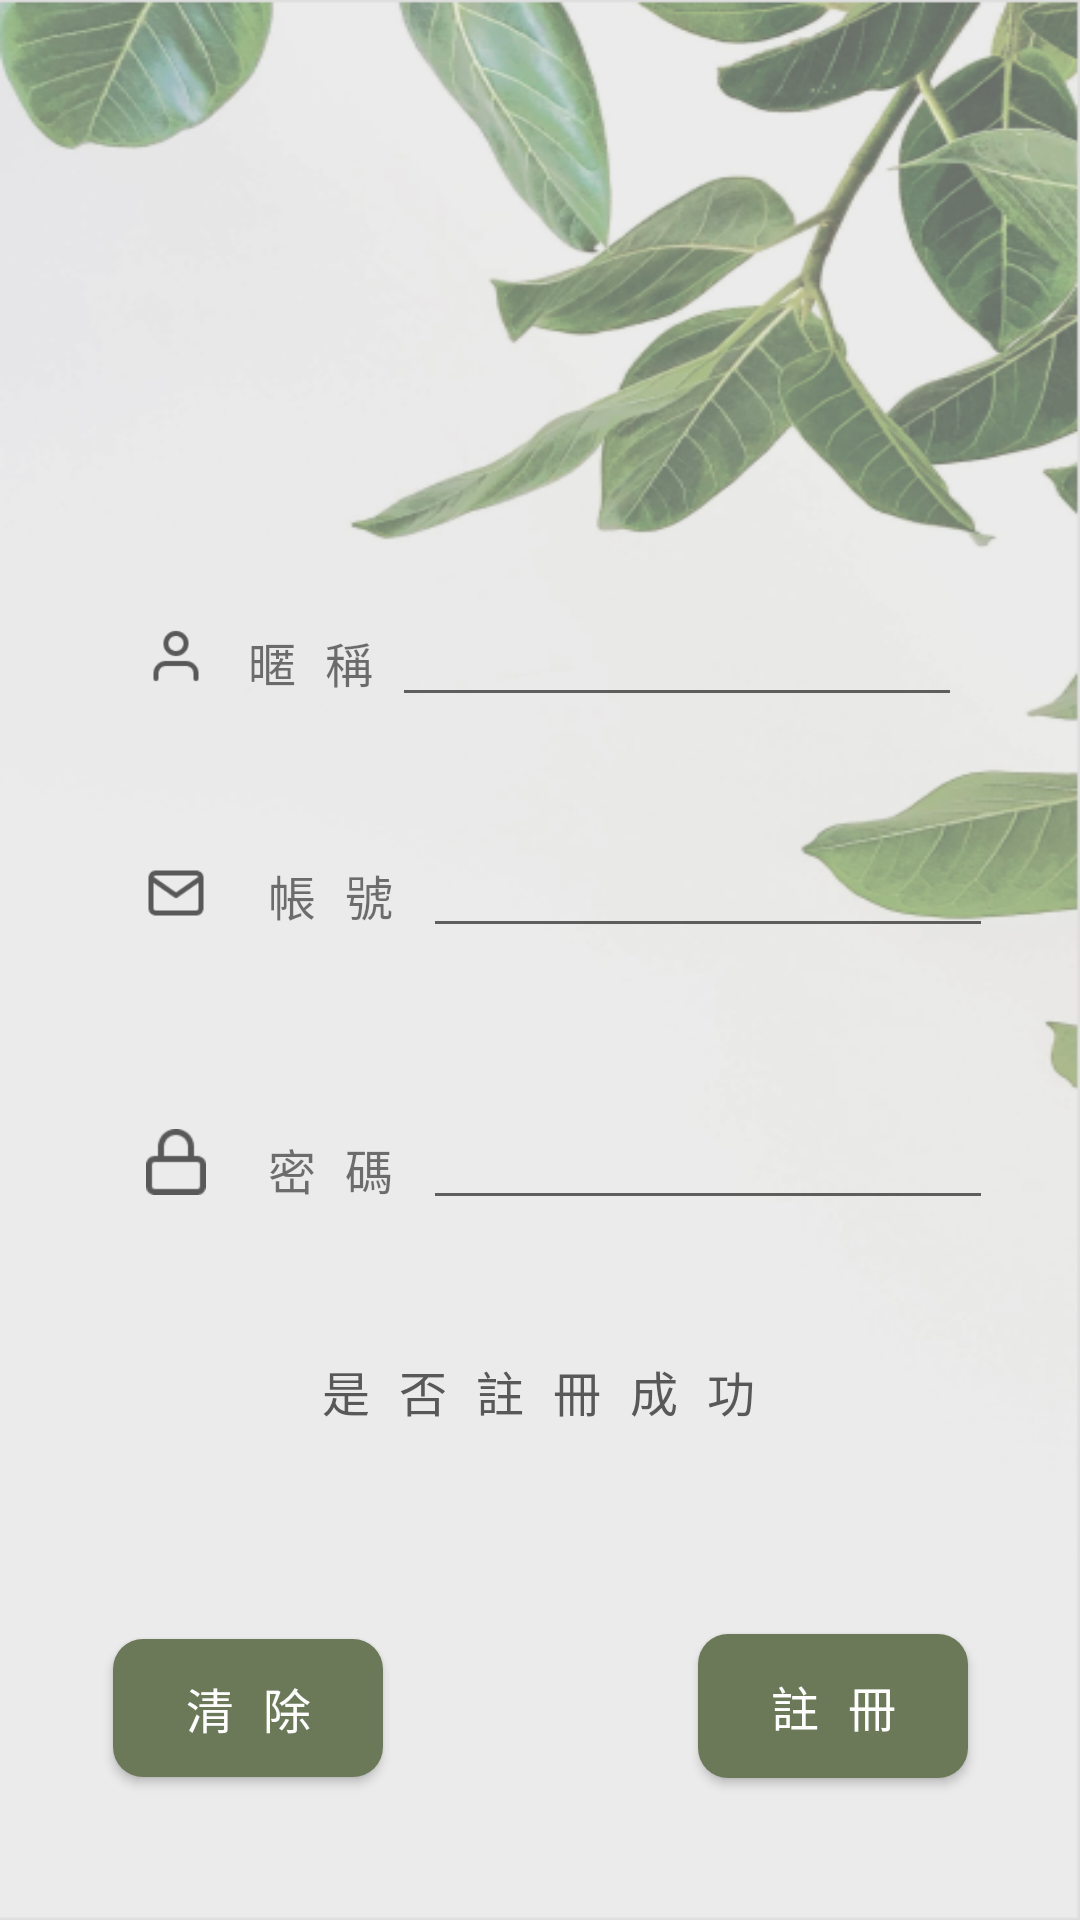

Where to tap for icons on this 1080px×1920px app screen, as (x,y):
lock: (176,1162)
mail: (176,893)
user: (176,656)
